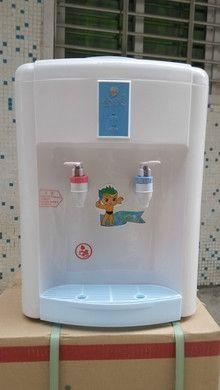Dispenser: (14, 54, 208, 328)
